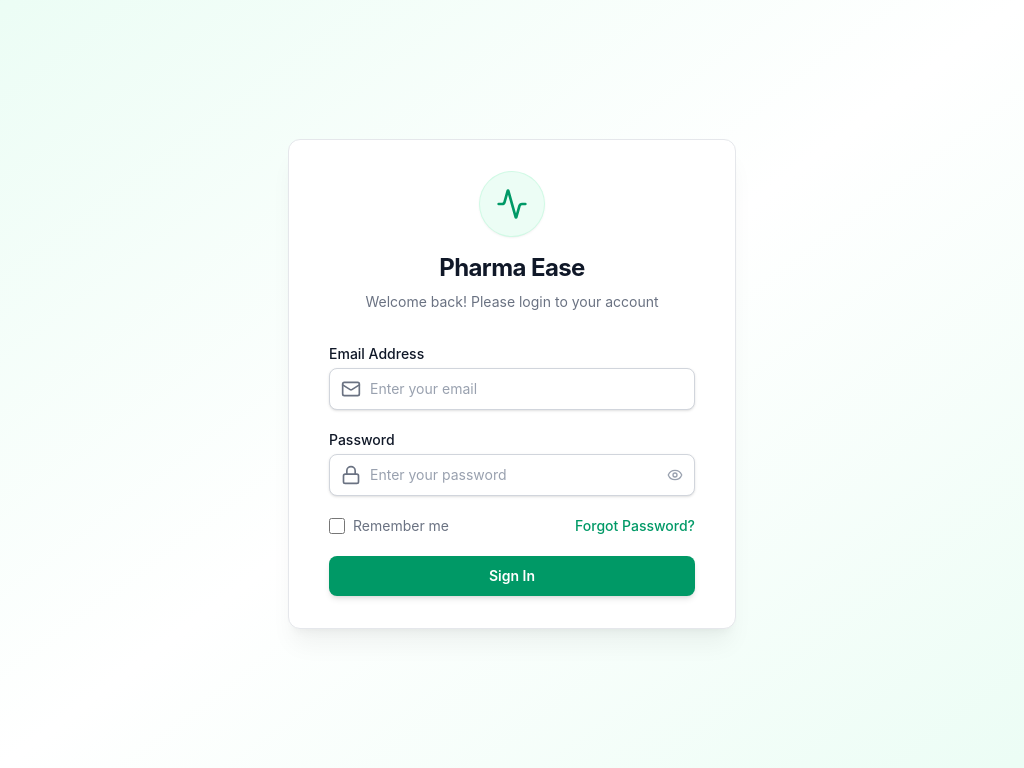
LoginView.vue Unit Tests › validates email format and minimum password length
Type "invalid-email" into the field labelled "Email Address" at {"x": 512, "y": 389}, box [329, 368, 695, 410]
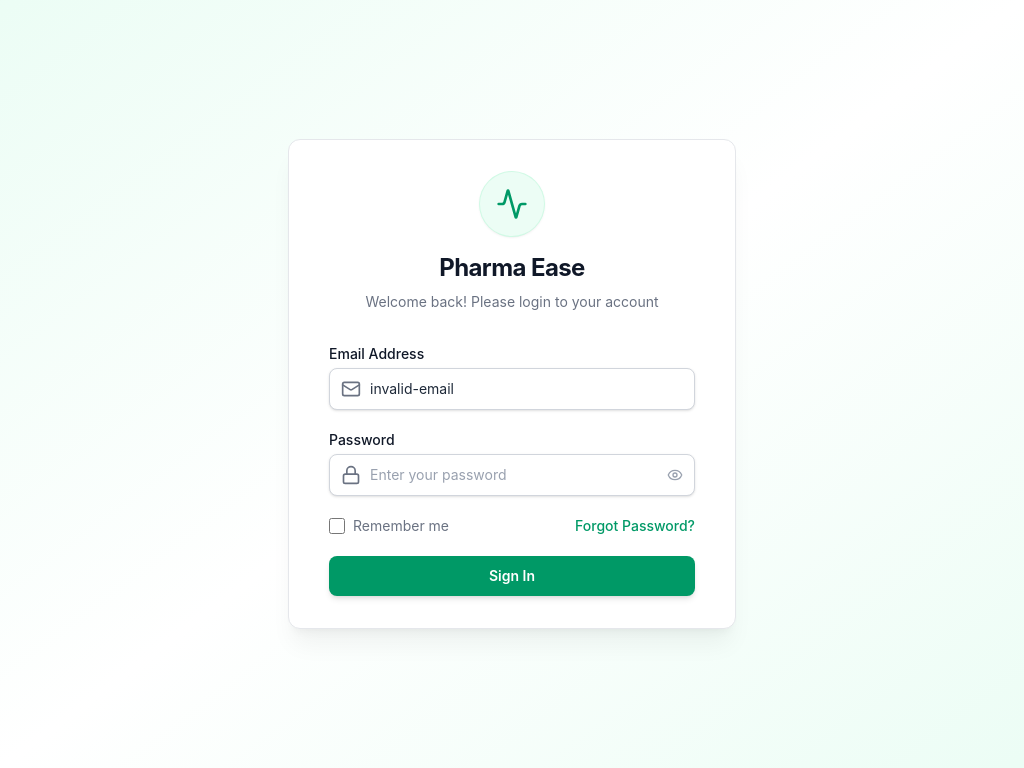
Type "123" into the password field labelled "Password" at {"x": 512, "y": 475}, box [329, 454, 695, 496]
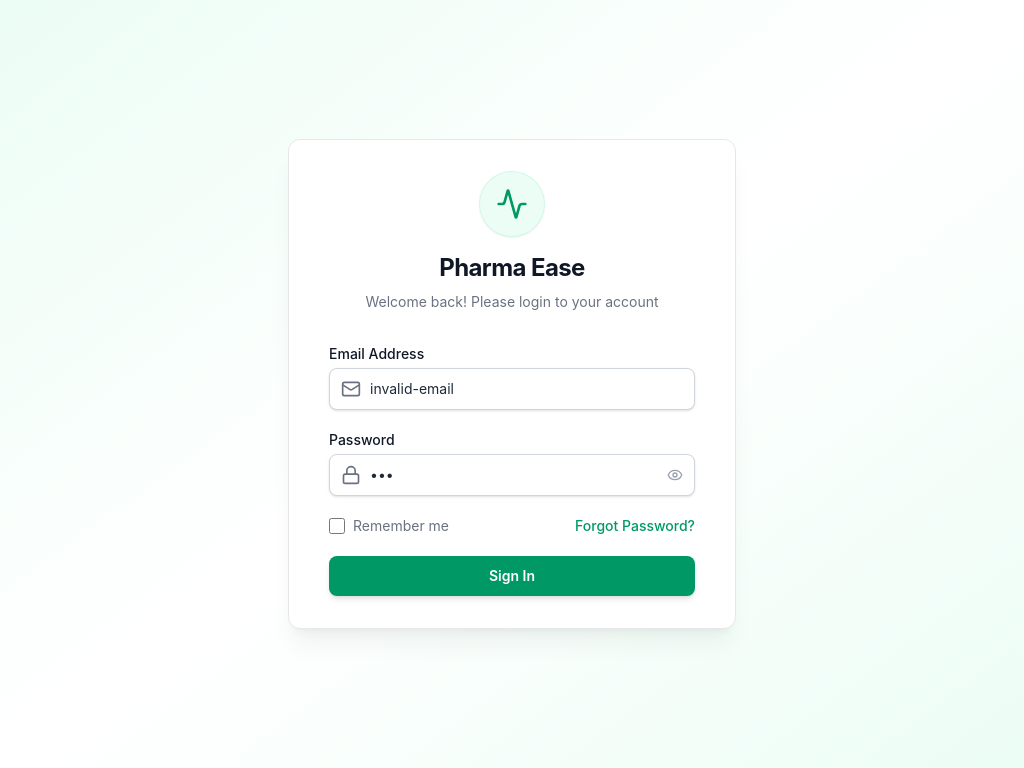
Submit the form, box [329, 344, 695, 596]
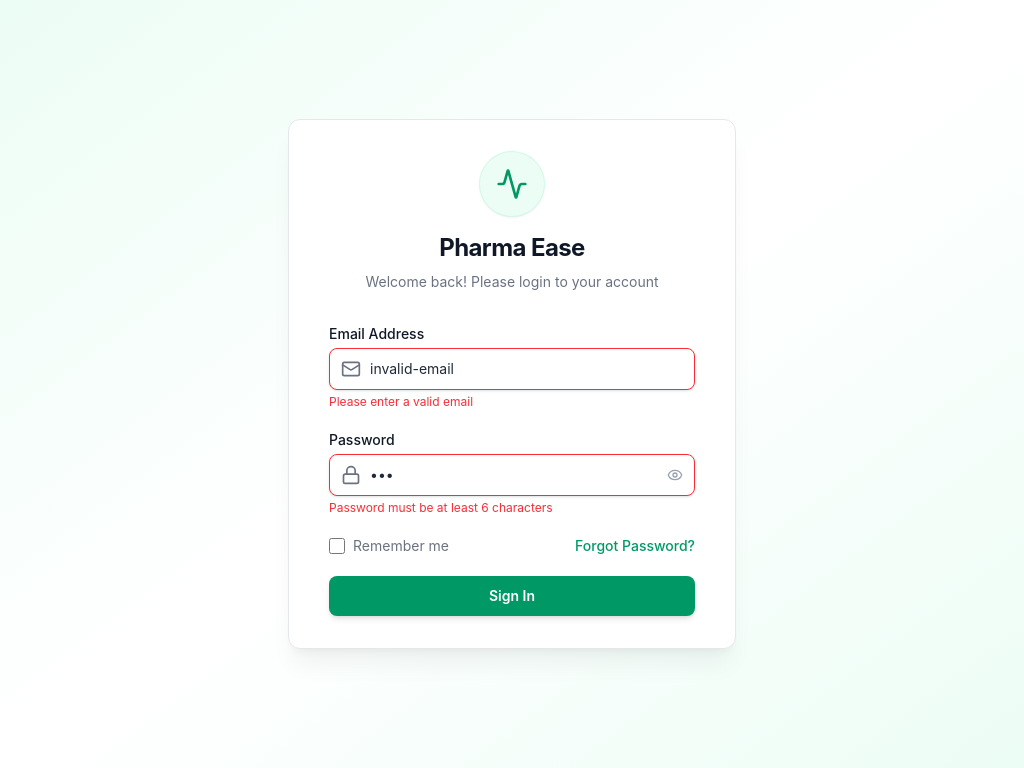
Expected: the text "Please enter a valid email" is shown, [329, 394, 473, 409]
Expected: the text "Password must be at least 6 characters" is shown, [329, 500, 553, 515]
